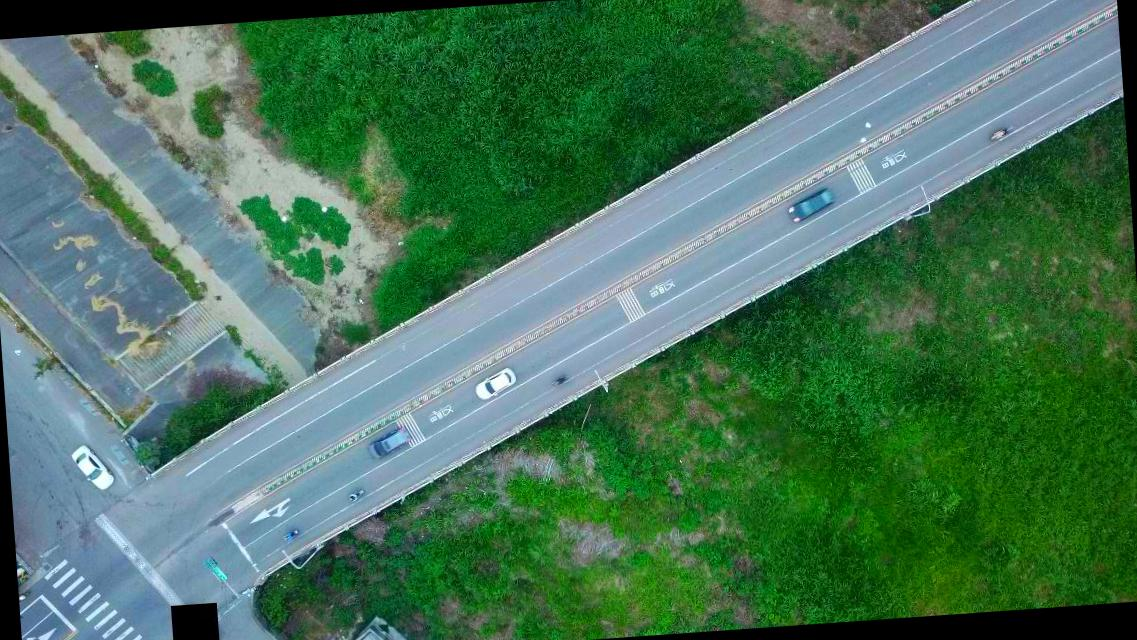vehicle: (70, 442, 113, 493), (786, 188, 838, 224), (365, 424, 413, 460), (474, 367, 518, 402)
